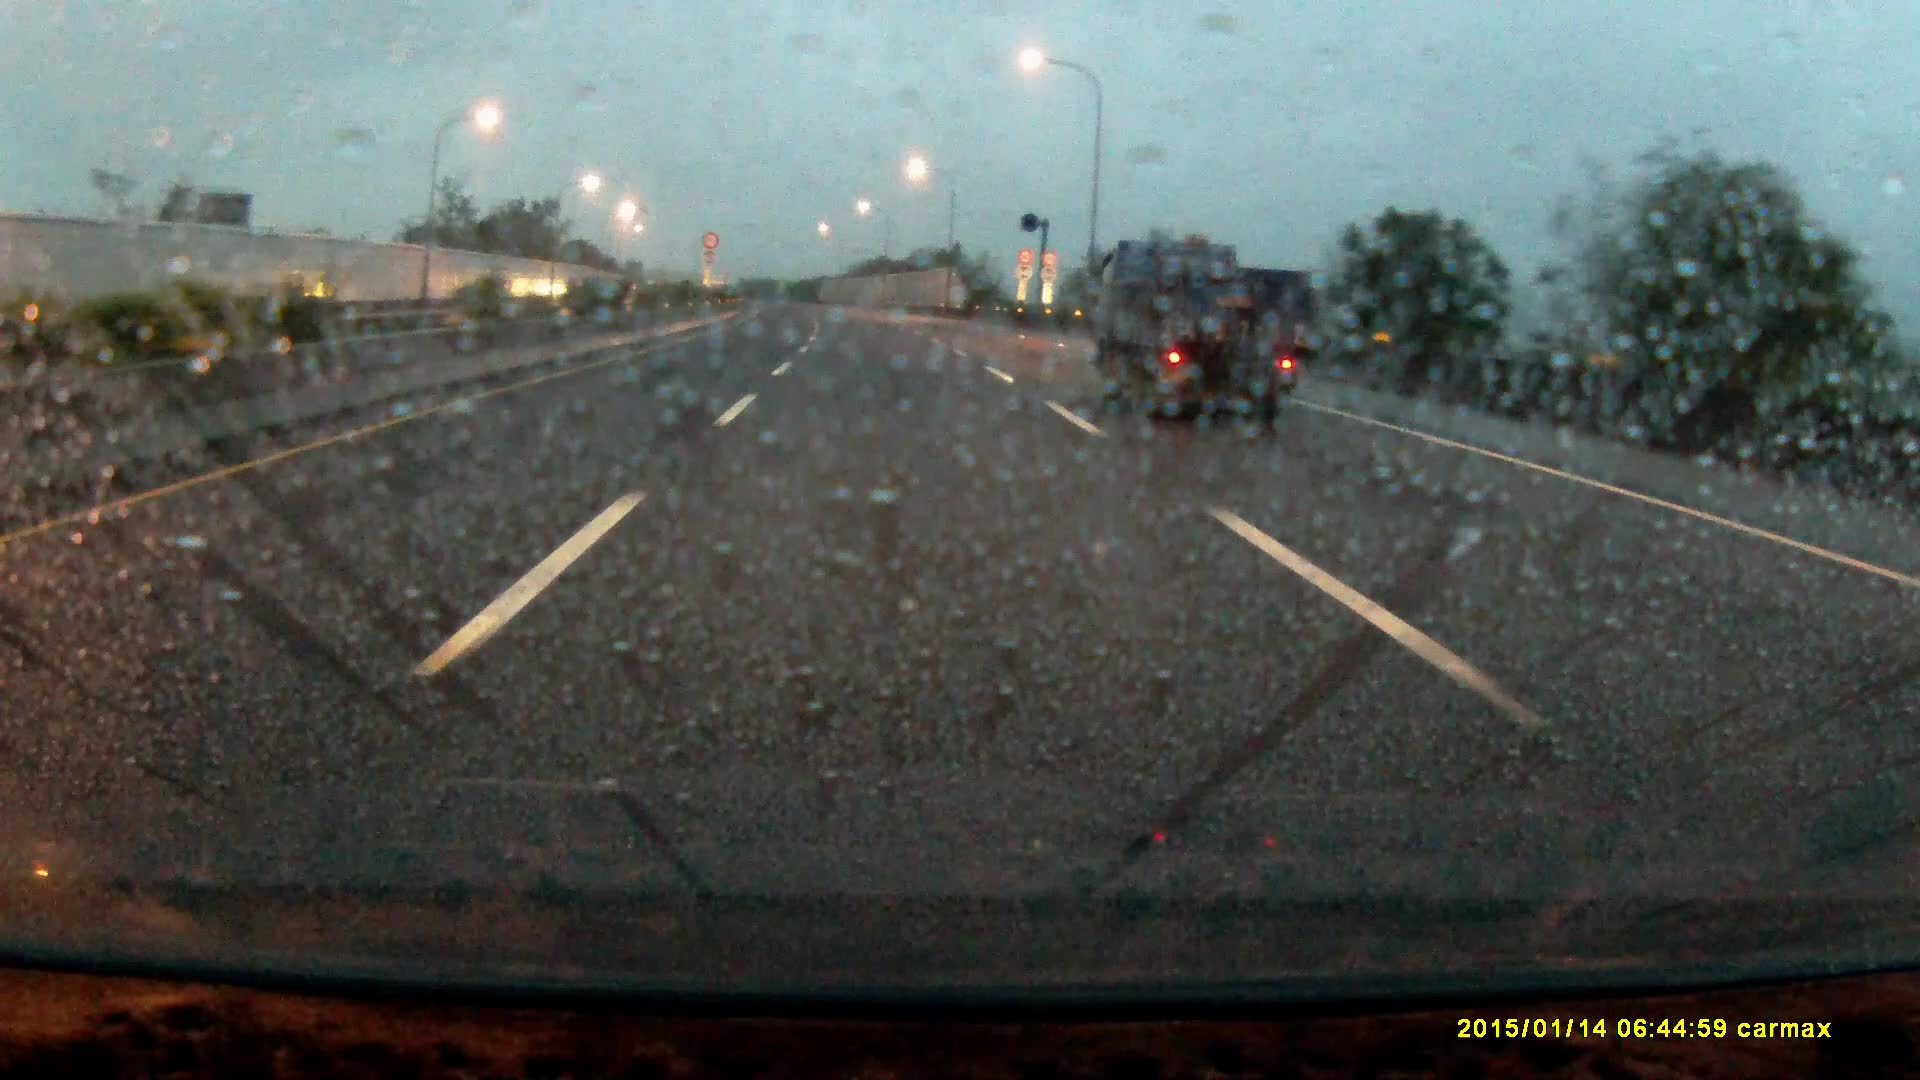vehicle: (1092, 241, 1305, 419)
